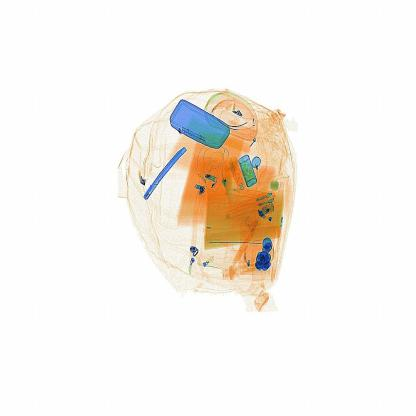pliers: (134, 145, 198, 210)
